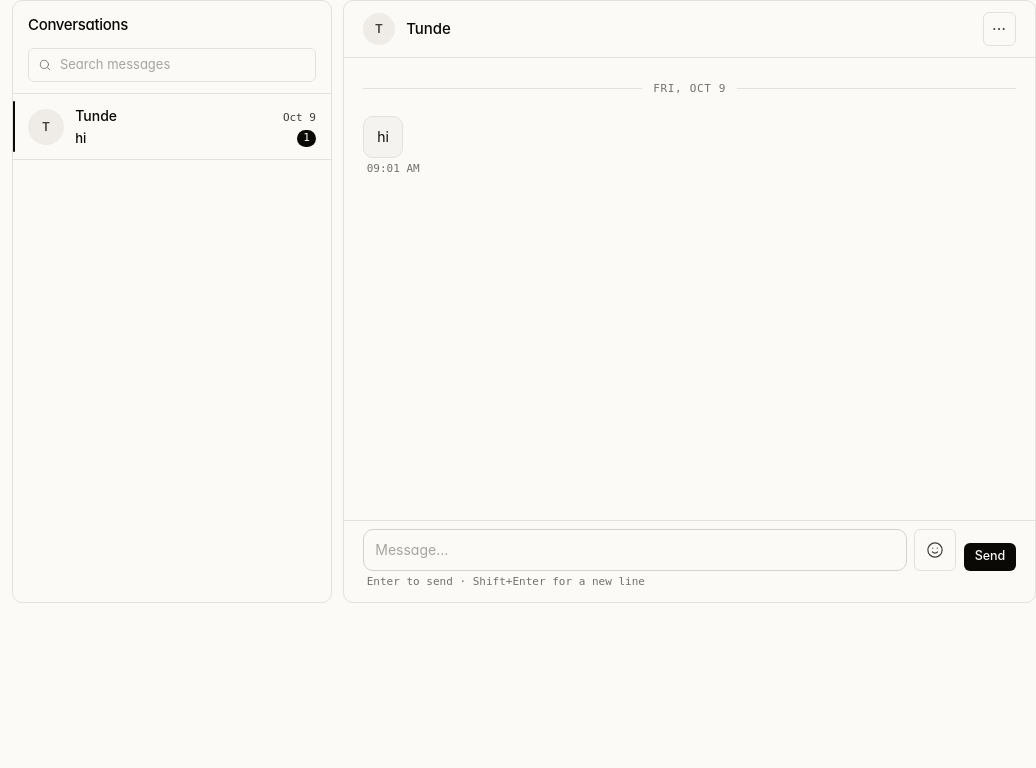
Scenario: MessagingCenter: sending (CONTRACT §6.2) › shows the message at once as sending, then sent; text typed during the send is kept (web B3/B4)
expect the text "hi" is shown: met, box [363,116,403,158]
Type "first" into the text box named "Message ".
click(635, 550); type("first")  # box [363,528,907,570]
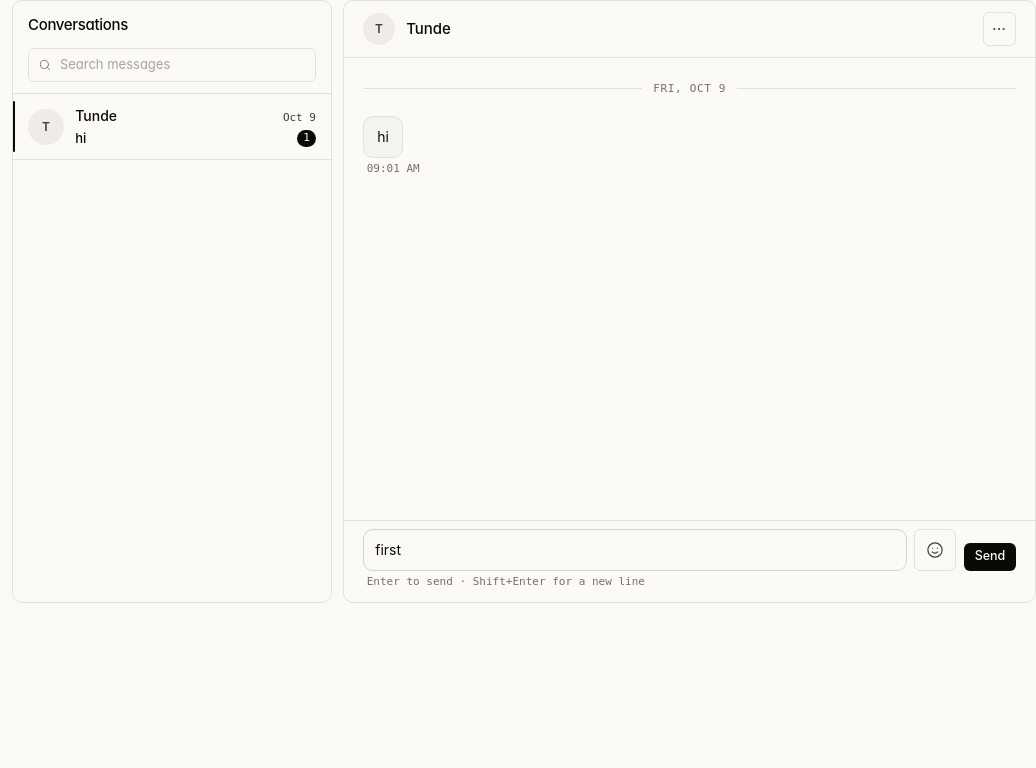
Press Enter in the text box named "Message ", box [363,528,907,570]
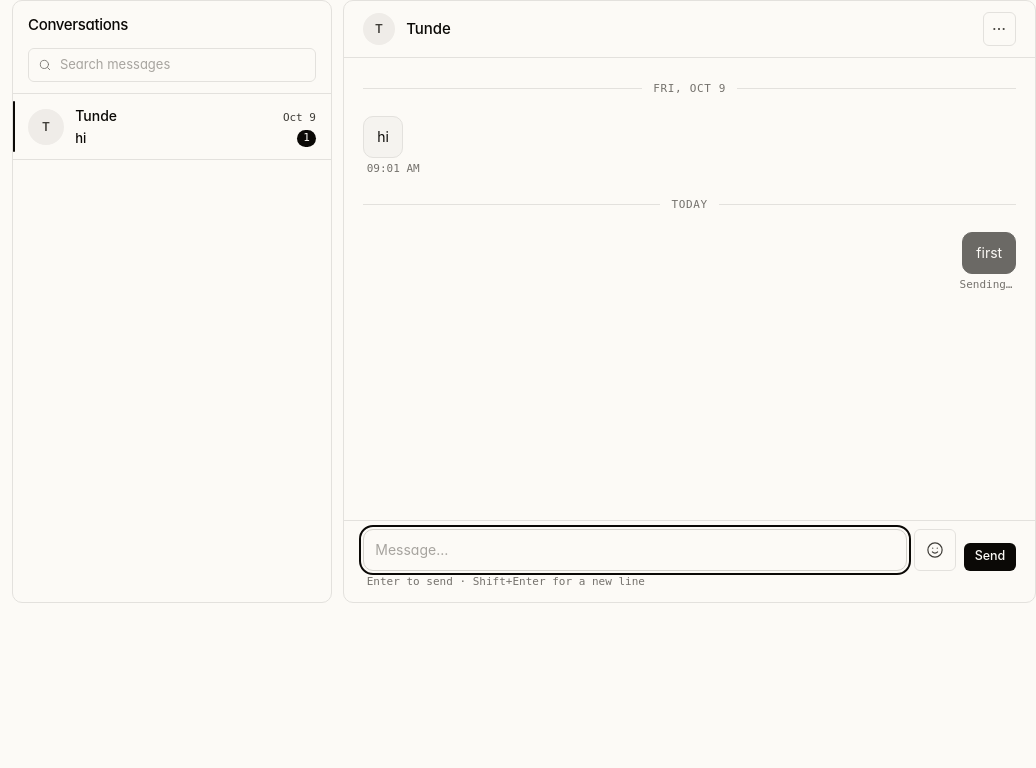
expect the text box named "Message " is empty: met
expect the text "Sending…" is shown: met, box [956,277,1016,294]
Type "typed while sending" into the text box named "Message ".
click(635, 550); type("typed while sending")  # box [363,528,907,570]
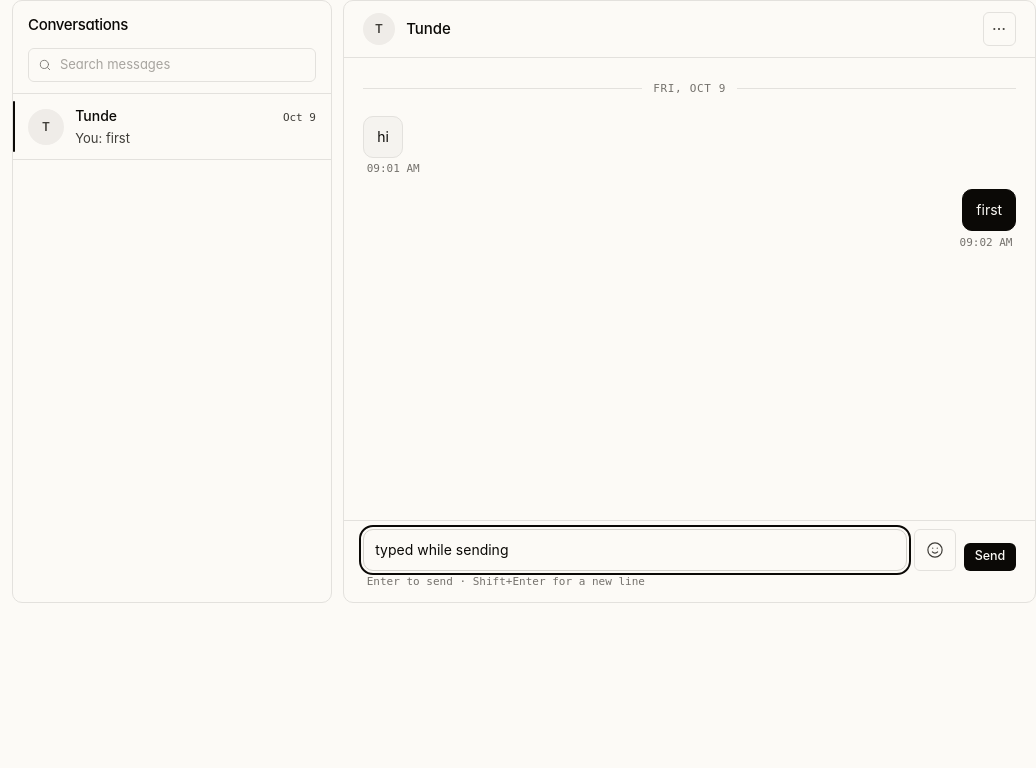
expect the text "first" is shown: met, box [962,189,1016,231]
expect the text "Sending…" is gone: met
